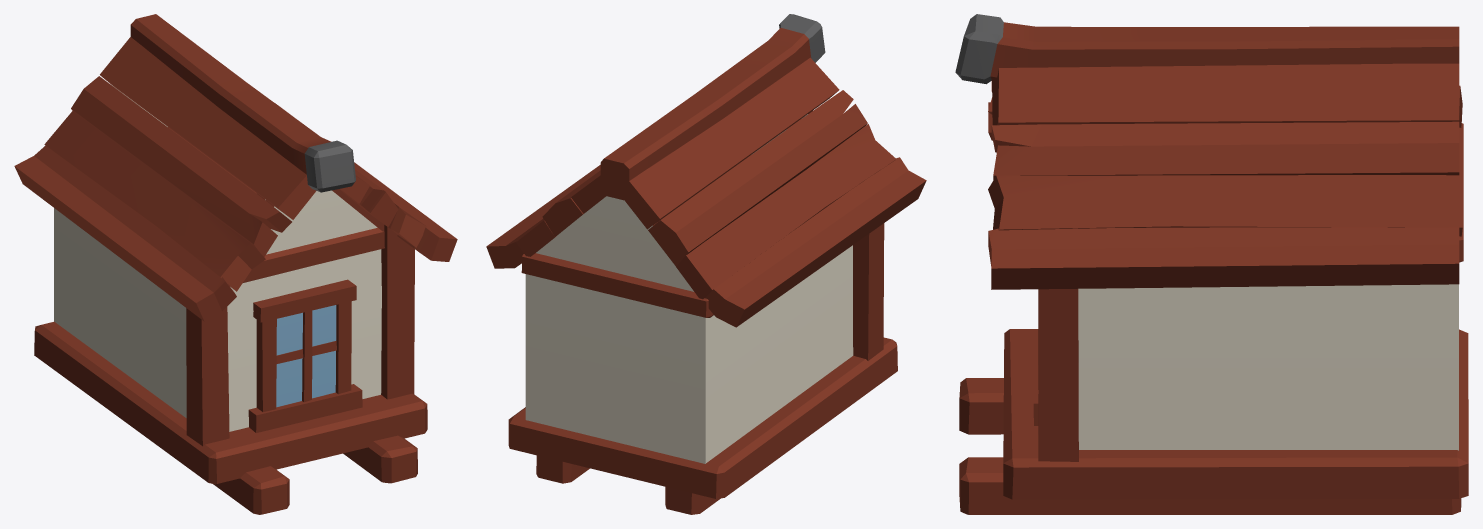
Rendered from House_2Floor_Side_A.fbx.
3 renders of one model, left to right at view 1: azimuth 30°, elevation 25°; view 2: azimuth 150°, elevation 25°; view 3: azimuth 270°, elevation 25°, orthographic. The views are drawn at different scales.
Visible parts, largest first — view 1: House_2Floor_Side_A; view 2: House_2Floor_Side_A; view 3: House_2Floor_Side_A.
Boxes of the visible parts, box(x1,y1,x2,y2) form: House_2Floor_Side_A: box(14, 14, 457, 514); House_2Floor_Side_A: box(486, 14, 926, 514); House_2Floor_Side_A: box(955, 14, 1468, 514).
Size of the model in its own units: 150 by 189 by 198.
